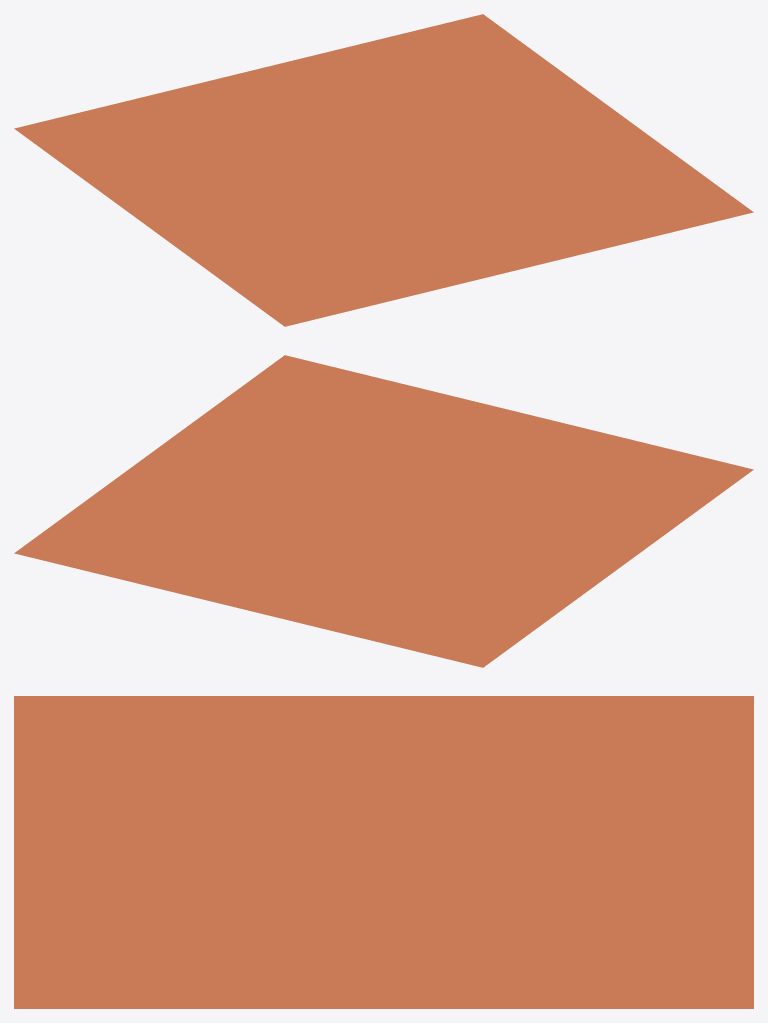
3 renders of one model, top to bottom at view 1: azimuth 30°, elevation 25°; view 2: azimuth 150°, elevation 25°; view 3: azimuth 270°, elevation 25°, orthographic. The views are drawn at different scales.
Parts seen in each view (by area): view 1: ground_pathOpen; view 2: ground_pathOpen; view 3: ground_pathOpen.
Part boxes in pixels (<box>): ground_pathOpen: <box>14,14,753,326</box>; ground_pathOpen: <box>14,355,753,667</box>; ground_pathOpen: <box>14,696,753,1008</box>.
Bounding box in the file's own units: 1 × 0 × 1.
